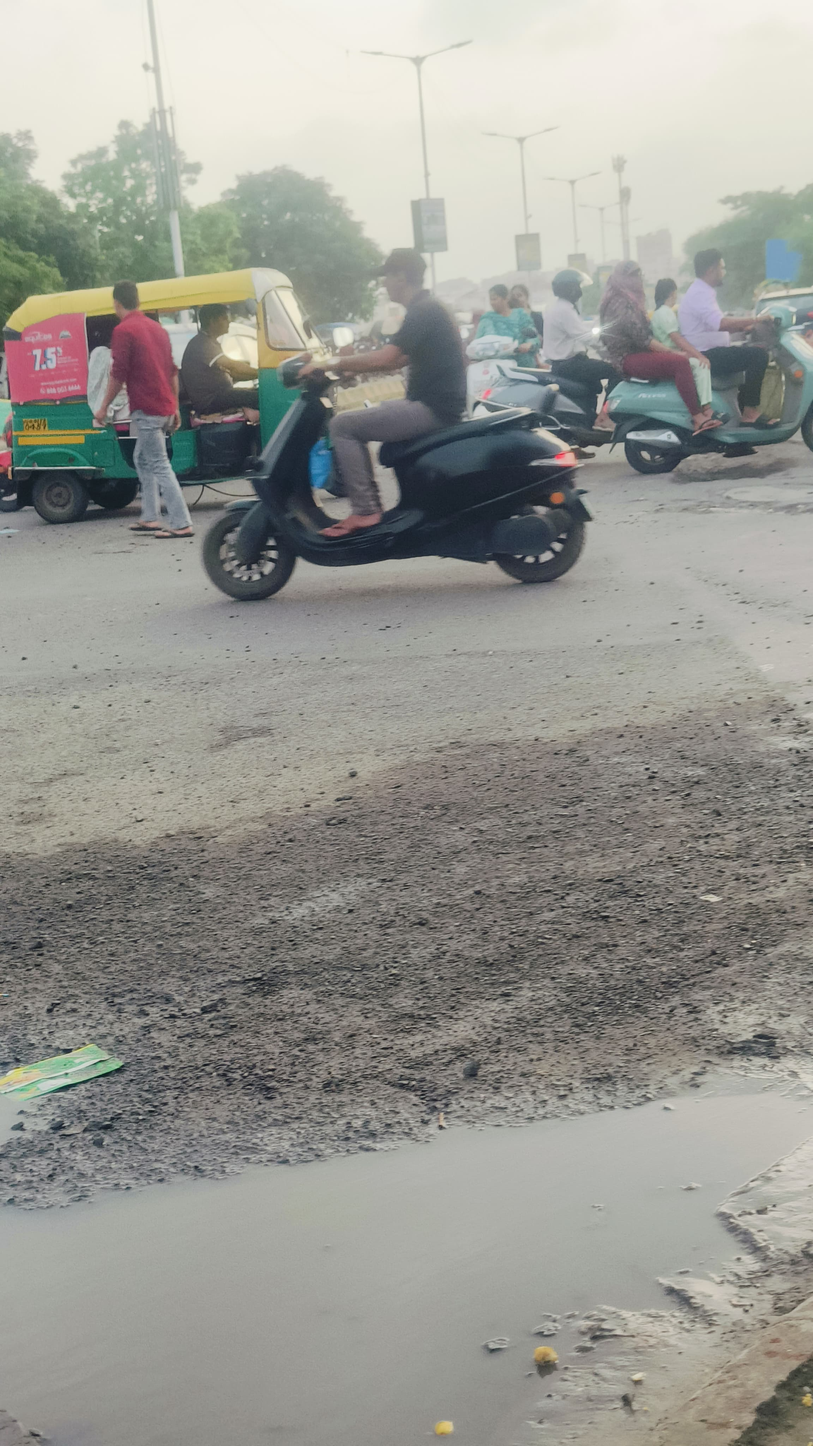BikeWithRider: (197, 236, 602, 606), (599, 247, 810, 478), (465, 270, 545, 419)
NoHelmet: (371, 243, 428, 304), (610, 254, 648, 298), (693, 249, 732, 289), (486, 281, 514, 313), (653, 277, 681, 307), (511, 280, 533, 309)
